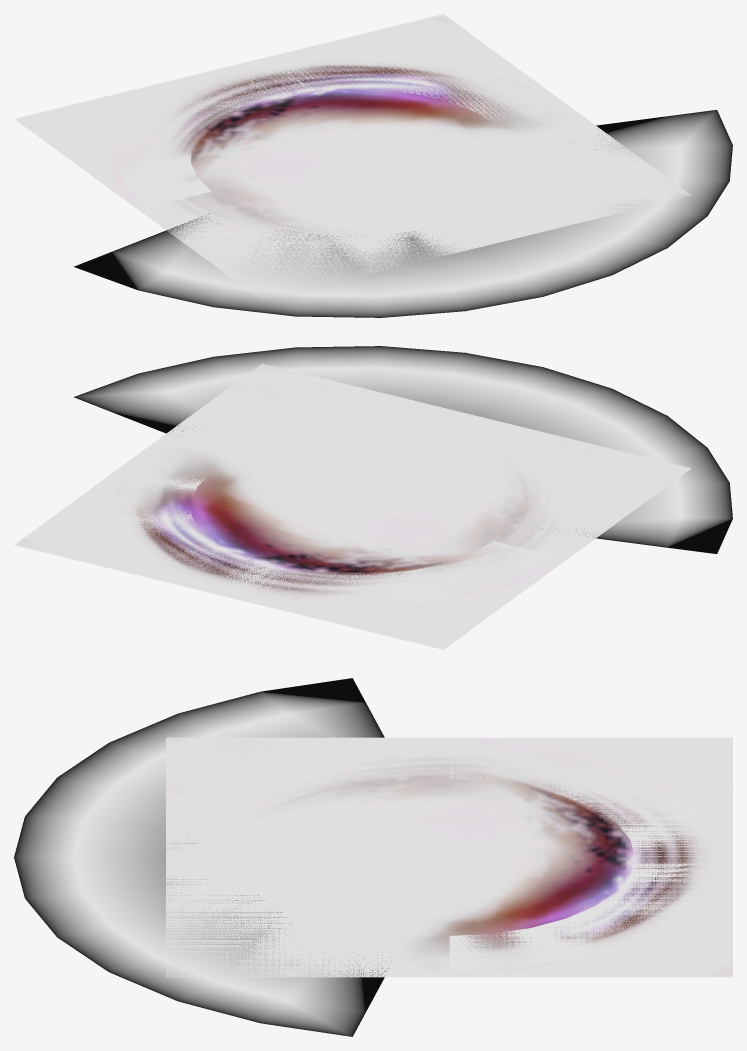
The model's file is hengsao.FBX.
3 renders of one model, top to bottom at view 1: azimuth 30°, elevation 25°; view 2: azimuth 150°, elevation 25°; view 3: azimuth 270°, elevation 25°, orthographic. The views are drawn at different scales.
Parts seen in each view (by area): view 1: Plane01, Tube01, Tube02; view 2: Plane01, Tube01, Tube02; view 3: Plane01, Tube01, Tube02.
Boxes of the visible parts, <box> form: Plane01: <box>14,14,690,299</box>; Tube01: <box>73,110,732,317</box>; Tube02: <box>118,58,556,206</box>; Plane01: <box>14,363,690,649</box>; Tube01: <box>73,346,732,553</box>; Tube02: <box>118,457,556,605</box>; Plane01: <box>166,737,732,977</box>; Tube01: <box>14,678,390,1036</box>; Tube02: <box>449,743,719,971</box>.
Size of the model in its own units: 7.46 by 6.32 by 1.19e-07.
1 material, 1 textured.
